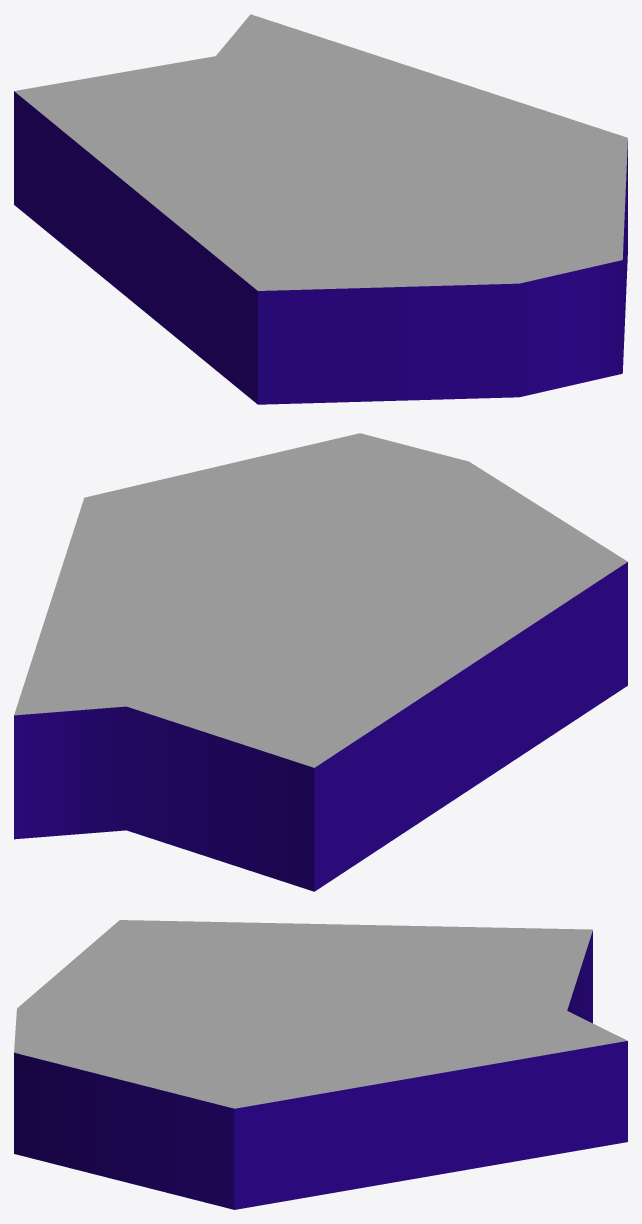
The model's file is Shard_S_7.fbx.
3 views of the same model, one above another, from view 1: azimuth 30°, elevation 25°; view 2: azimuth 150°, elevation 25°; view 3: azimuth 270°, elevation 25° (orthographic). The views are drawn at different scales.
Visible parts, largest first — view 1: pCube1; view 2: pCube1; view 3: pCube1.
Boxes of the visible parts, bbox=[...] form: pCube1: bbox=[14, 14, 627, 404]; pCube1: bbox=[14, 433, 627, 891]; pCube1: bbox=[14, 920, 627, 1209].
Size of the model in its own units: 2.53 by 0.632 by 3.47.
